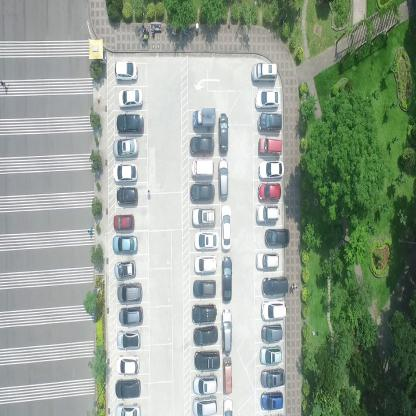car: (114, 377, 141, 400), (116, 112, 144, 134), (261, 297, 286, 321), (254, 88, 280, 111), (192, 373, 218, 396), (116, 328, 142, 351), (251, 61, 278, 83), (258, 159, 285, 181), (193, 349, 220, 371), (220, 204, 232, 252), (112, 162, 138, 184), (220, 256, 232, 303), (260, 366, 285, 388), (113, 60, 138, 82), (117, 281, 142, 303), (115, 354, 140, 376), (191, 302, 217, 323), (113, 138, 139, 159), (113, 235, 139, 256), (261, 276, 288, 296), (192, 396, 220, 415), (258, 136, 282, 158), (260, 390, 284, 412), (221, 307, 232, 355), (191, 208, 216, 229), (264, 228, 290, 248), (189, 183, 215, 203), (118, 306, 144, 326), (192, 108, 216, 129), (194, 253, 218, 274), (192, 277, 216, 298), (118, 89, 143, 109), (116, 186, 139, 207), (258, 112, 282, 132), (257, 181, 281, 201), (221, 355, 233, 395), (113, 260, 137, 280), (193, 325, 218, 344), (189, 136, 215, 154), (218, 112, 229, 154), (259, 344, 282, 364), (191, 158, 214, 178), (256, 204, 280, 223), (194, 232, 218, 250), (256, 251, 278, 270), (113, 214, 135, 233), (261, 324, 284, 342), (219, 156, 228, 202), (114, 402, 142, 415), (222, 396, 234, 415)
